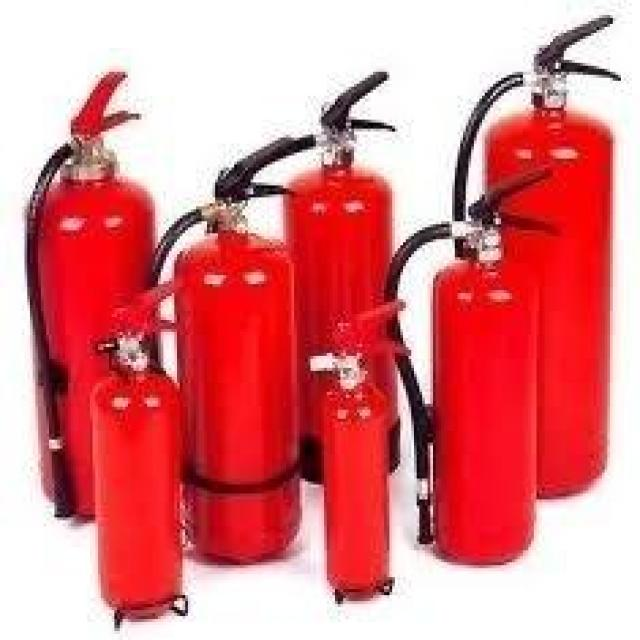fire_extinguisher: (443, 9, 622, 505), (130, 127, 306, 567), (378, 162, 566, 568), (16, 64, 161, 525), (274, 63, 402, 487), (83, 263, 206, 625), (297, 293, 414, 601)
